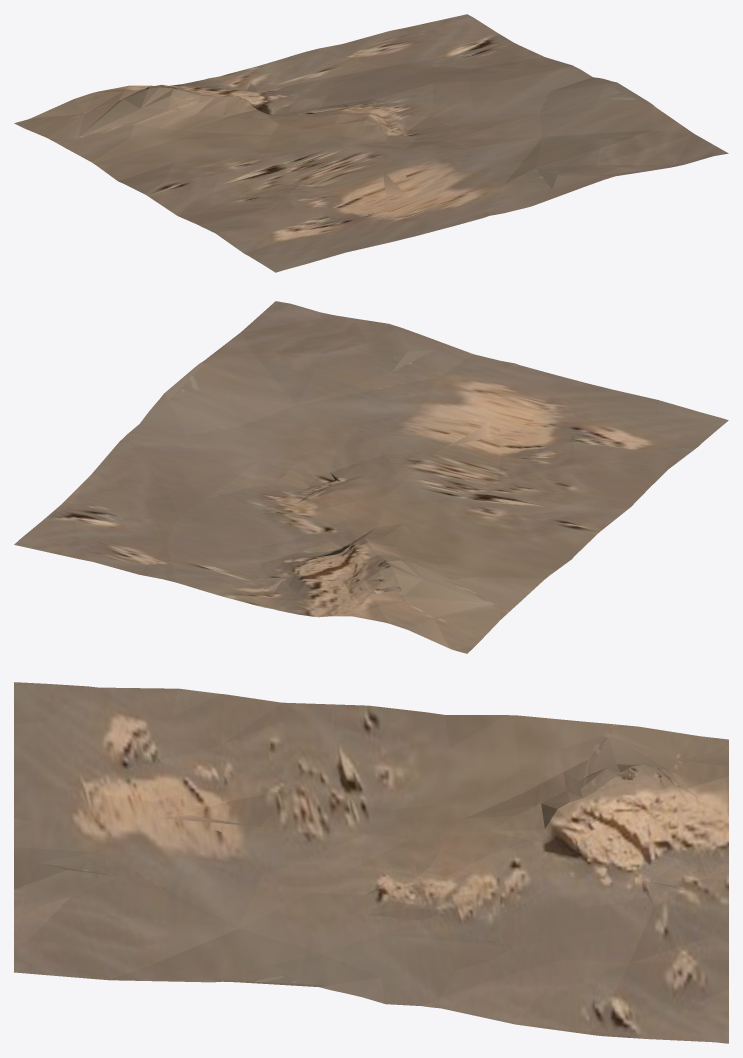
3 views of the same model, one above another, from view 1: azimuth 30°, elevation 25°; view 2: azimuth 150°, elevation 25°; view 3: azimuth 270°, elevation 25° (orthographic). The views are drawn at different scales.
Bounding box in the file's own units: 2.09 × 0.2593 × 2.09.
Materials: 2 (2 with a texture image).
